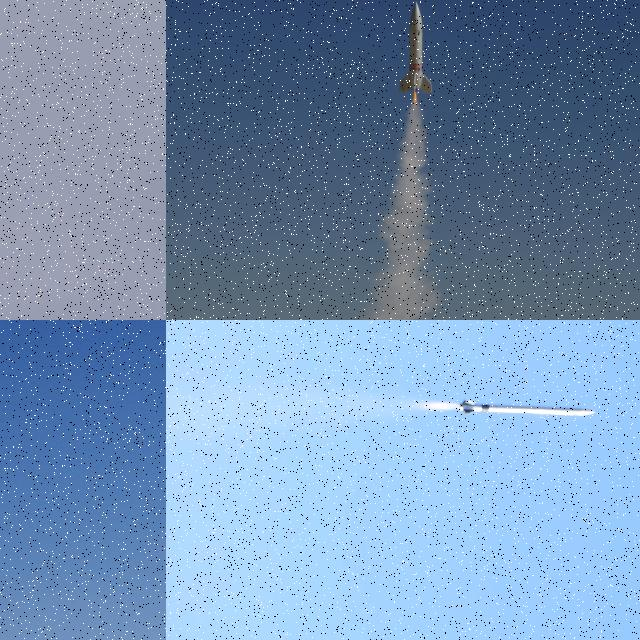Rocket: (398, 1, 434, 95), (459, 398, 596, 417)
